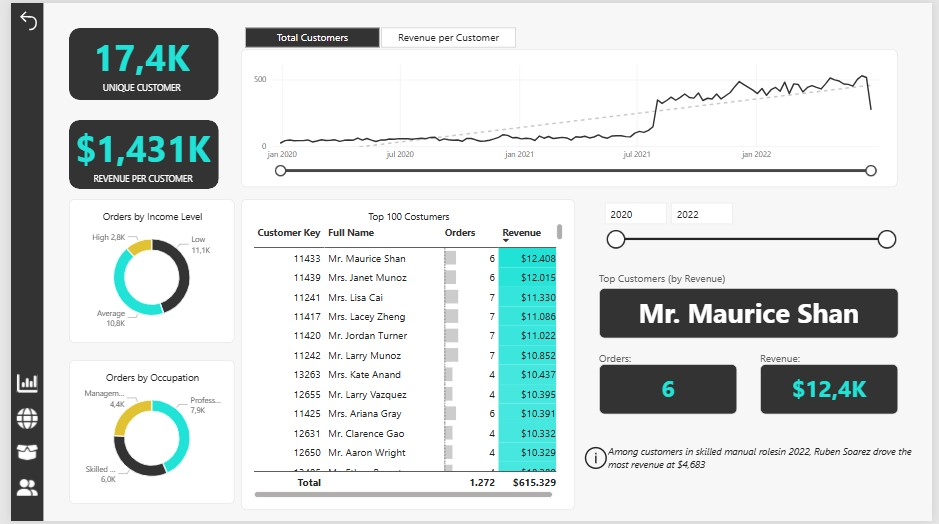

This screenshot's page, from the dashboard's own definition file:
{"tool":"powerbi","page":{"name":"Costumer Detail","canvas":[1280,720],"ordinal":3},"visuals":[{"type":"shape","box":[0,-8,45,1088],"z":0},{"type":"actionButton","box":[0,496,48,64],"z":0,"group":"g1"},{"type":"shape","box":[79.9,35,208,100],"z":1000},{"type":"actionButton","box":[0,544,48,64],"z":1000,"group":"g1"},{"type":"cardVisual","fields":{"Data":["Measure Table.Total Customers"]},"box":[69.3,35,224,96],"z":2000},{"type":"actionButton","box":[0,592,48,64],"z":2000,"group":"g1"},{"type":"shape","box":[80.9,163,208,96],"z":3000},{"type":"actionButton","box":[0,640,48,64],"z":3000,"group":"g1"},{"type":"cardVisual","fields":{"Data":["Measure Table.Average Revenue per Customer"]},"box":[72.1,161.2,222,96],"z":4000},{"type":"lineChart","fields":{"Category":["Calendar Lookup.Date Hierarchy.Start of Year","Calendar Lookup.Date Hierarchy.Start of Month","Calendar Lookup.Date Hierarchy.Start of Week","Calendar Lookup.Date Hierarchy.Date"],"Y":["Measure Table.Total Customers"]},"box":[320,64,912,192],"z":5000},{"type":"donutChart","title":"Orders by Income Level","fields":{"Category":["Customer Lookup.Income Level"],"Y":["Measure Table.Total Orders"]},"box":[80,272,230,200],"z":6000},{"type":"donutChart","title":"Orders by Occupation","fields":{"Category":["Customer Lookup.Occupation"],"Y":["Measure Table.Total Orders"]},"box":[80,496,230,200],"z":7000},{"type":"tableEx","title":"Top 100 Costumers","fields":{"Values":["Customer Lookup.CustomerKey","Customer Lookup.Full Name","Measure Table.Total Orders","Measure Table.Total Revenue"]},"box":[320,272,464,432],"z":8000},{"type":"card","fields":{"Values":["Measure Table.Full Name (Customer Detail)"]},"box":[816,396.5,416,70],"z":9000},{"type":"card","fields":{"Values":["Measure Table.Total Orders (Customer Detail)"]},"box":[816,501.2,192,70],"z":10000},{"type":"card","fields":{"Values":["Measure Table.Total Revenue (Customer Detail)"]},"box":[1040,501.2,192,70],"z":11000},{"type":"textbox","box":[816,372.5,192,32],"z":12000},{"type":"textbox","box":[816,483.2,192,32],"z":13000},{"type":"textbox","box":[1040,483.2,192,32],"z":14000},{"type":"slicer","fields":{"Values":["Calendar Lookup.Year"]},"box":[816,272,416,96],"z":15000},{"type":"actionButton","box":[784,576,480,112],"z":16000},{"type":"actionButton","box":[0,0,48,48],"z":17000},{"type":"group","id":"g1","title":"Navigation Buttons","box":[0,496,48,208],"z":18000},{"type":"slicer","fields":{"Values":["Customer Metric Selection.Customer Metric Selection"]},"box":[304,32,416,32],"z":18501}]}

Visuals, with their boxes on the page's 1280x720 design canvas (x1, y1, x2, y2). These are canvas units, not pixel positions in the 939x524 screenshot, which may show the page scaled, cropped or inside an application window:
shape: [0, -8, 45, 1080]
actionButton: [0, 496, 48, 560]
shape: [80, 35, 288, 135]
actionButton: [0, 544, 48, 608]
cardVisual - Measure Table.Total Customers: [69, 35, 293, 131]
actionButton: [0, 592, 48, 656]
shape: [81, 163, 289, 259]
actionButton: [0, 640, 48, 704]
cardVisual - Measure Table.Average Revenue per Customer: [72, 161, 294, 257]
lineChart - Calendar Lookup.Date Hierarchy.Start of Year x Calendar Lookup.Date Hierarchy.Start of Month: [320, 64, 1232, 256]
"Orders by Income Level" donutChart: [80, 272, 310, 472]
"Orders by Occupation" donutChart: [80, 496, 310, 696]
"Top 100 Costumers" tableEx: [320, 272, 784, 704]
card - Measure Table.Full Name (Customer Detail): [816, 396, 1232, 466]
card - Measure Table.Total Orders (Customer Detail): [816, 501, 1008, 571]
card - Measure Table.Total Revenue (Customer Detail): [1040, 501, 1232, 571]
textbox: [816, 372, 1008, 404]
textbox: [816, 483, 1008, 515]
textbox: [1040, 483, 1232, 515]
slicer - Calendar Lookup.Year: [816, 272, 1232, 368]
actionButton: [784, 576, 1264, 688]
actionButton: [0, 0, 48, 48]
"Navigation Buttons" group: [0, 496, 48, 704]
slicer - Customer Metric Selection.Customer Metric Selection: [304, 32, 720, 64]
